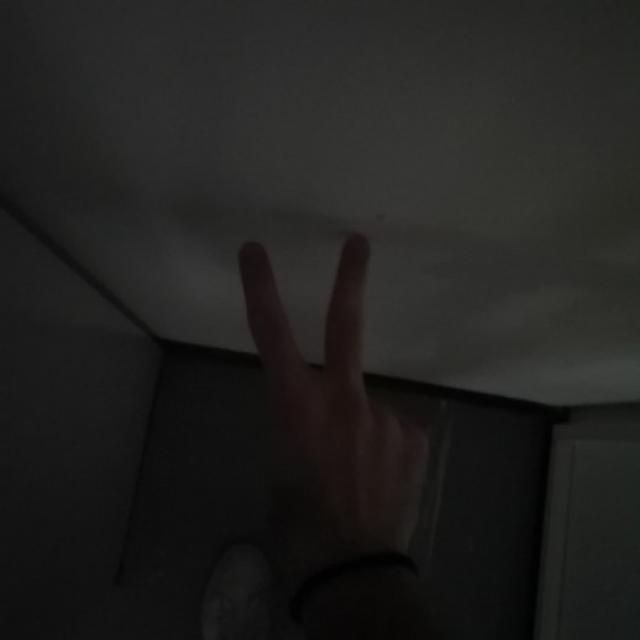scissors: (238, 225, 434, 530)
